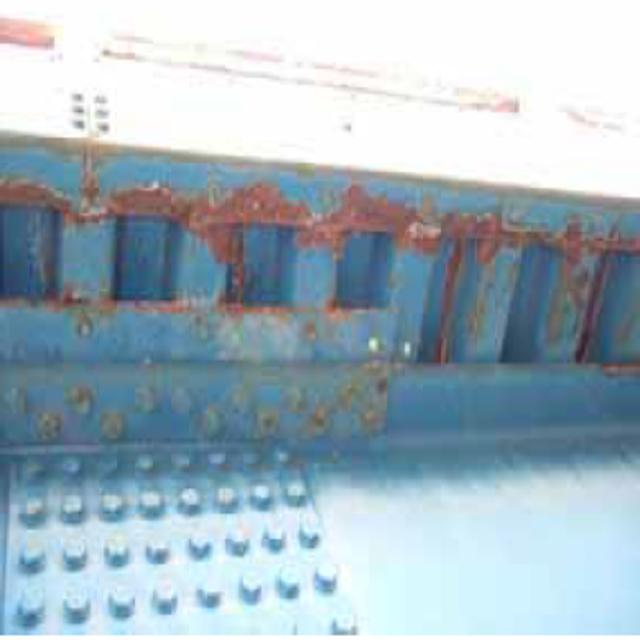corrosion: (29, 131, 630, 400)
